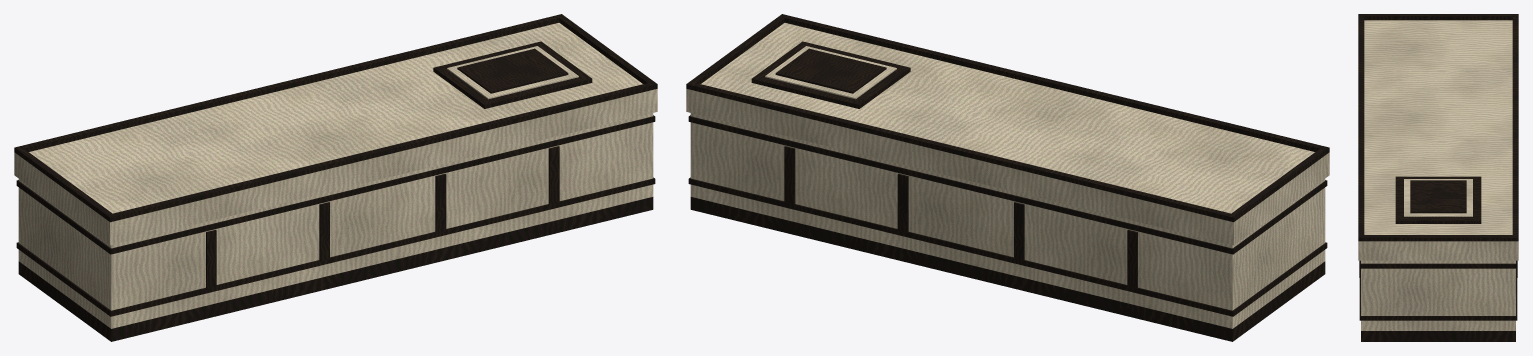
File: coffin.glb
3 renders of one model, left to right at view 1: azimuth 30°, elevation 25°; view 2: azimuth 150°, elevation 25°; view 3: azimuth 270°, elevation 25°, orthographic. The views are drawn at different scales.
Parts seen in each view (by area): view 1: Lid, coffin, Window; view 2: Lid, coffin, Window; view 3: Lid, coffin, Window.
Part boxes in pixels (<box>): Lid: <box>14,14,657,245</box>; coffin: <box>16,113,655,341</box>; Window: <box>447,46,578,99</box>; Lid: <box>686,14,1329,245</box>; coffin: <box>688,113,1327,341</box>; Window: <box>765,46,896,99</box>; Lid: <box>1358,14,1518,260</box>; coffin: <box>1359,260,1517,341</box>; Window: <box>1404,179,1472,216</box>.
Size of the model in its own units: 1.98 by 0.444 by 0.6.
4 materials, 4 textured.
